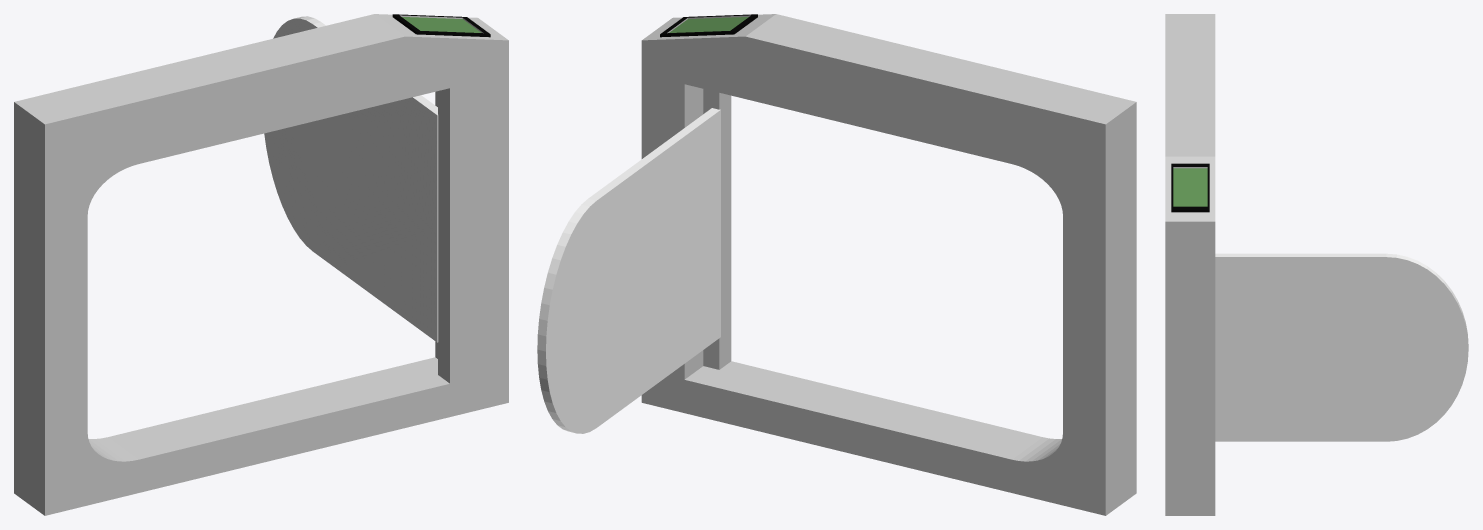
Rendered from nfc_pass.glb.
3 renders of one model, left to right at view 1: azimuth 30°, elevation 25°; view 2: azimuth 150°, elevation 25°; view 3: azimuth 270°, elevation 25°, orthographic. The views are drawn at different scales.
Parts seen in each view (by area): view 1: MainFrame, Door; view 2: MainFrame, Door; view 3: Door, MainFrame.
Boxes of the visible parts, x1,y1,x2,y2 form: MainFrame: (14,14,508,515); Door: (264,16,438,342); MainFrame: (641,14,1136,515); Door: (537,108,720,433); Door: (1215,253,1468,441); MainFrame: (1165,14,1215,515).
Size of the model in its own units: 5.04 by 4.06 by 3.51.
